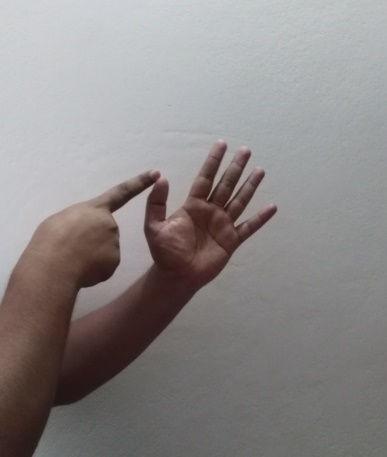a: (58, 140, 278, 288)
